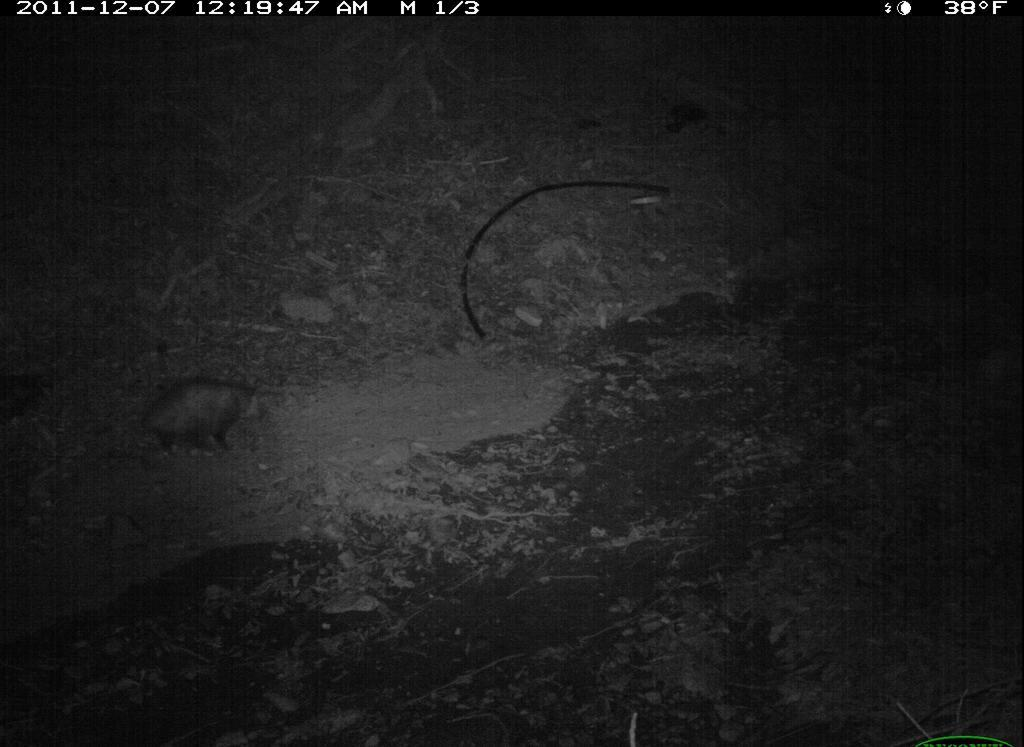opossum: (113, 373, 272, 468)
